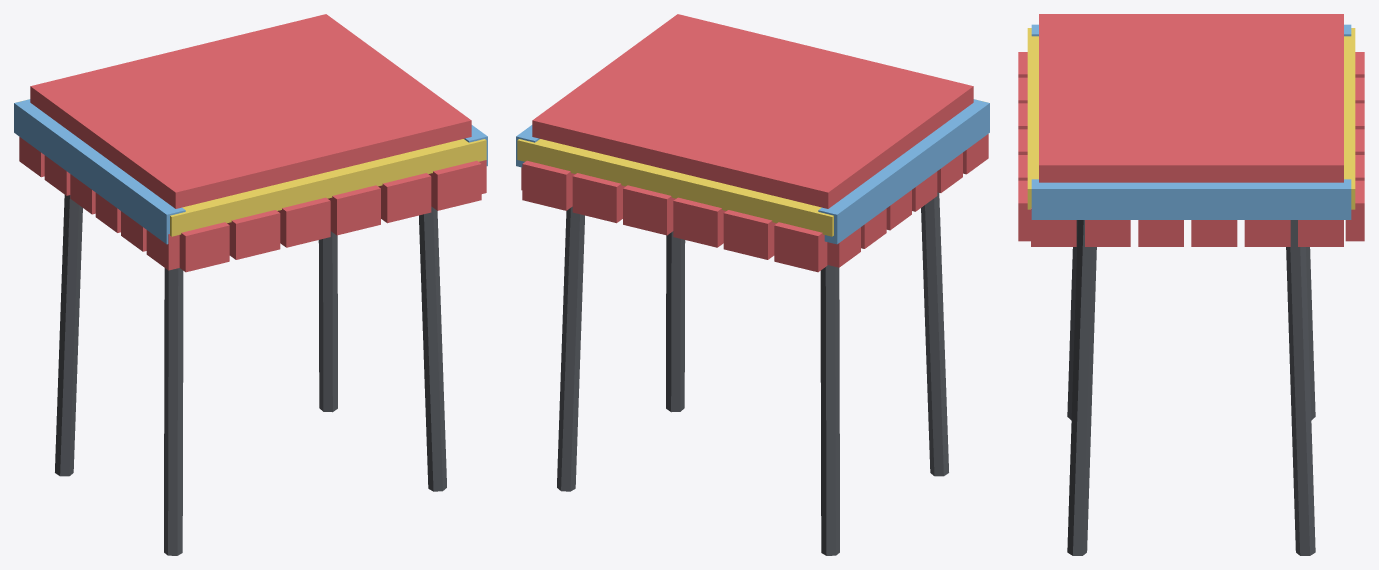
File: lawn-mowing-simulator-kit-sunshade-canopy-4d3b4660__27366.glb
The picture shows the model from 3 angles, left to right: view 1: azimuth 30°, elevation 25°; view 2: azimuth 150°, elevation 25°; view 3: azimuth 270°, elevation 25°; orthographic projection. The views are drawn at different scales.
Parts seen in each view (by area): view 1: sunshade-canopy; view 2: sunshade-canopy; view 3: sunshade-canopy.
Part boxes in pixels (x1=…): sunshade-canopy: x1=14, y1=14, x2=487, y2=555; sunshade-canopy: x1=516, y1=14, x2=989, y2=555; sunshade-canopy: x1=1018, y1=14, x2=1364, y2=555.
Size of the model in its own units: 1.02 by 1.15 by 0.91.
